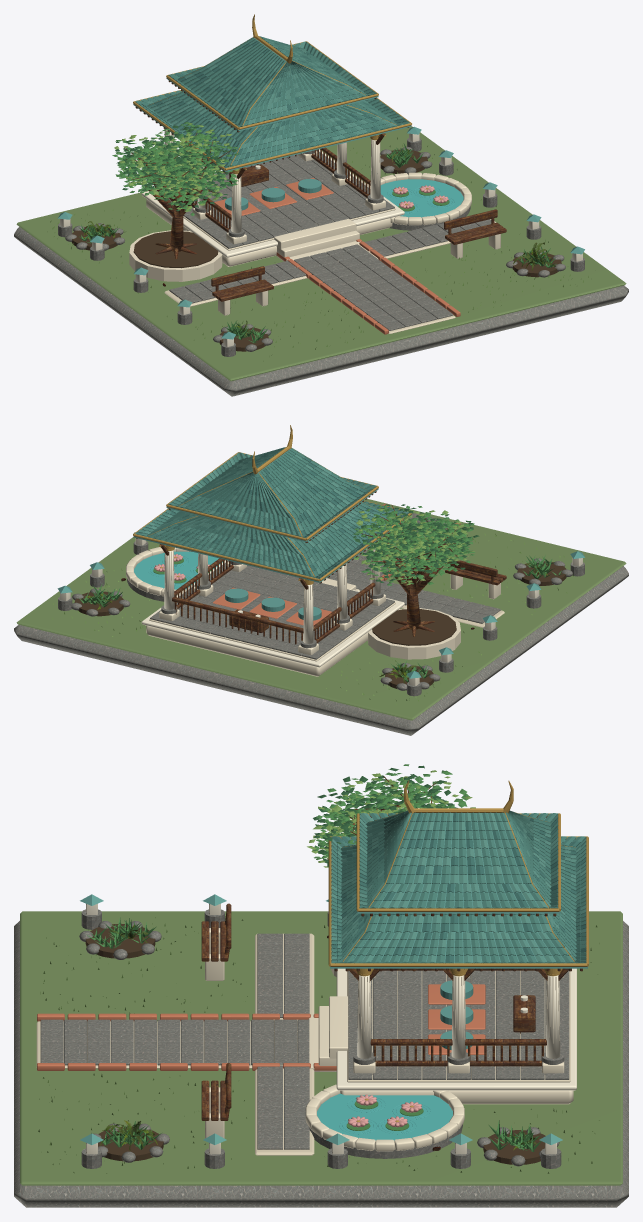
The model's file is temple_quality_v06.glb.
3 renders of one model, top to bottom at view 1: azimuth 30°, elevation 25°; view 2: azimuth 150°, elevation 25°; view 3: azimuth 270°, elevation 25°, orthographic. The views are drawn at different scales.
Parts seen in each view (by area): view 1: Courtyard, Roof_Tile_Detail, Stone_Paving, Thai_Pavilion, Detailed_Bodhi_Foliage, Garden_Understory, Bodhi_Inspired_Tree, Lotus_Pond, Garden_Bench, Timber_Craft, Scanned_Ferns_CC0, Pond_Botanical_Detail; view 2: Courtyard, Roof_Tile_Detail, Thai_Pavilion, Stone_Paving, Detailed_Bodhi_Foliage, Timber_Craft, Bodhi_Inspired_Tree, Garden_Understory, Lotus_Pond, Garden_Bench; view 3: Courtyard, Roof_Tile_Detail, Stone_Paving, Thai_Pavilion, Lotus_Pond, Garden_Understory, Timber_Craft, Detailed_Bodhi_Foliage, Garden_Bench, Pond_Botanical_Detail, Scanned_Ferns_CC0.
Part boxes in pixels (<box>): Courtyard: <box>14,126,628,396</box>; Roof_Tile_Detail: <box>135,36,409,172</box>; Stone_Paving: <box>156,150,491,330</box>; Thai_Pavilion: <box>133,14,411,266</box>; Detailed_Bodhi_Foliage: <box>112,122,239,215</box>; Garden_Understory: <box>47,137,588,361</box>; Bodhi_Inspired_Tree: <box>129,176,222,281</box>; Lotus_Pond: <box>367,172,471,230</box>; Garden_Bench: <box>211,209,506,315</box>; Timber_Craft: <box>164,130,385,237</box>; Scanned_Ferns_CC0: <box>83,149,555,336</box>; Pond_Botanical_Detail: <box>389,185,454,213</box>; Courtyard: <box>14,499,628,735</box>; Roof_Tile_Detail: <box>135,447,408,583</box>; Thai_Pavilion: <box>133,425,412,676</box>; Stone_Paving: <box>150,513,500,659</box>; Detailed_Bodhi_Foliage: <box>353,504,479,585</box>; Timber_Craft: <box>159,545,383,648</box>; Bodhi_Inspired_Tree: <box>367,548,460,659</box>; Garden_Understory: <box>52,533,573,704</box>; Lotus_Pond: <box>126,547,225,601</box>; Garden_Bench: <box>445,558,506,599</box>; Courtyard: <box>14,894,628,1207</box>; Roof_Tile_Detail: <box>331,810,586,971</box>; Stone_Paving: <box>40,933,569,1149</box>; Thai_Pavilion: <box>308,780,588,1104</box>; Lotus_Pond: <box>305,1084,464,1158</box>; Garden_Understory: <box>38,917,599,1173</box>; Timber_Craft: <box>353,968,564,1066</box>; Detailed_Bodhi_Foliage: <box>307,764,475,867</box>; Garden_Bench: <box>201,903,231,1138</box>; Pond_Botanical_Detail: <box>339,1094,430,1134</box>; Scanned_Ferns_CC0: <box>100,925,541,1150</box>.
Bounding box in the file's own units: 16 × 7.9 × 15.
Materials: 25 (9 with a texture image).
